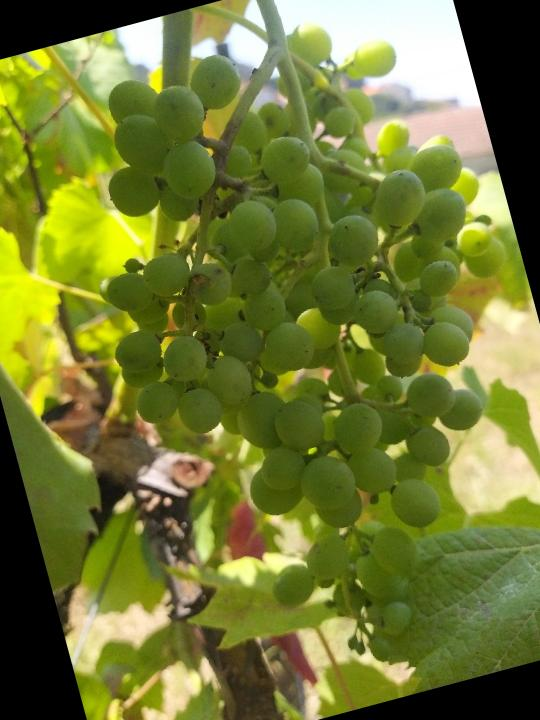grape: (41, 0, 540, 709)
